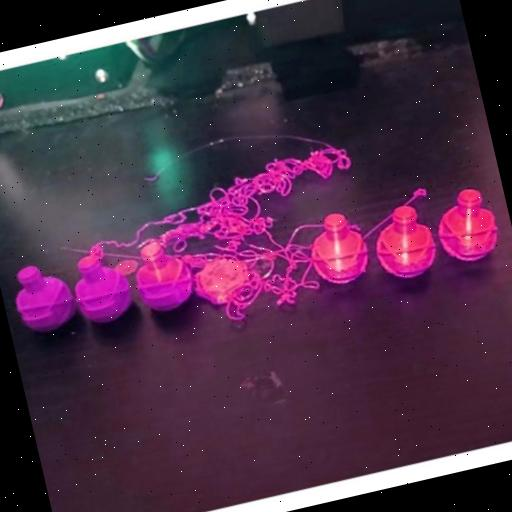spaghetti: (78, 138, 360, 267), (175, 216, 326, 332), (400, 186, 432, 208), (304, 217, 328, 232), (344, 218, 364, 236)
